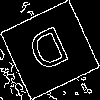D: (24, 25, 76, 82)
